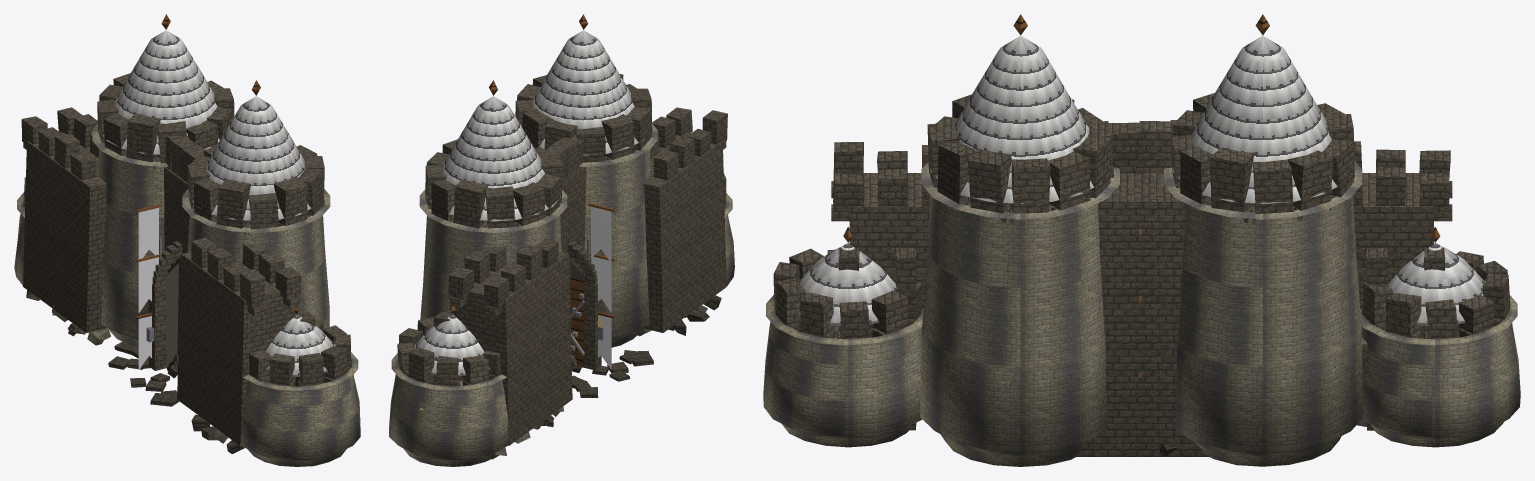
File: gatehouse.glb
3 views of the same model, side by side, from view 1: azimuth 30°, elevation 25°; view 2: azimuth 150°, elevation 25°; view 3: azimuth 270°, elevation 25° (orthographic). The views are drawn at different scales.
Visible parts, largest first — view 1: gatehouse_s0, gatehouse_s2, gatehouse_s3; view 2: gatehouse_s0, gatehouse_s2, gatehouse_s3; view 3: gatehouse_s0.
Part boxes in pixels (x1,y1,x2,y2): gatehouse_s0: (14,14,360,466); gatehouse_s2: (52,167,161,332); gatehouse_s3: (26,290,269,453); gatehouse_s0: (389,14,734,466); gatehouse_s2: (454,252,614,445); gatehouse_s3: (492,287,726,459); gatehouse_s0: (763,14,1520,466).
Size of the model in its own units: 6.5 by 12.89 by 20.65.
9 materials, 4 textured.
